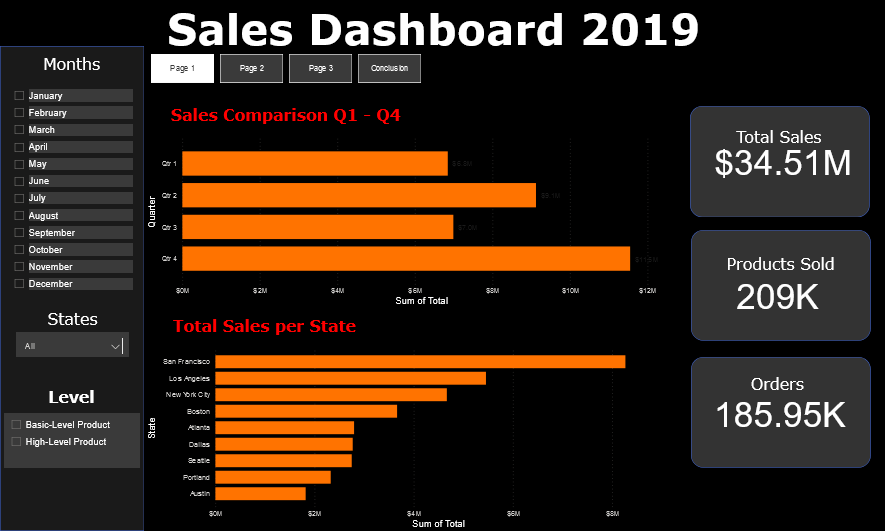

Layout of this report page (visuals, bound fields, positions):
{"tool":"powerbi","page":{"name":"Page 1","canvas":[1500,900],"ordinal":0},"visuals":[{"type":"textbox","box":[248,0,976.2,109.8],"z":0},{"type":"shape","box":[0,78,244.5,822],"z":1000},{"type":"slicer","fields":{"Values":["sales_2019.Order_Date.Variation.Date Hierarchy.Month"]},"box":[12.4,141.7,217.9,377.4],"z":2000},{"type":"shape","box":[1169.3,178.9,304.7,188.7],"z":3000},{"type":"card","fields":{"Values":["Sum(sales_2019.Total)"]},"box":[1197.6,207.3,258.7,129.3],"z":4000},{"type":"textbox","box":[63.8,519.1,116.9,47.8],"z":5000},{"type":"shape","box":[1171.1,389.8,304.7,187.8],"z":6000},{"type":"textbox","box":[35.4,86.8,171.9,46.1],"z":7000},{"type":"card","fields":{"Values":["Sum(sales_2019.Quantity_Ordered)"]},"box":[1197.2,432.3,242.7,131.1],"z":8000},{"type":"textbox","box":[1198.8,210.4,243.8,47.2],"z":9000},{"type":"clusteredBarChart","fields":{"Y":["Sum(sales_2019.Total)"],"Category":["sales_2019.Order_Date.Variation.Date Hierarchy.Quarter"]},"box":[244.5,221.5,896.5,301.2],"z":10000},{"type":"textbox","box":[1201.2,425.2,242.7,47.8],"z":11000},{"type":"textbox","box":[276.4,173.6,416.3,46.1],"z":12000},{"type":"clusteredBarChart","fields":{"Category":["sales_2019.State"],"Y":["Sum(sales_2019.Total)"]},"box":[244.5,577.6,894.7,322.4],"z":13000},{"type":"textbox","box":[276.4,529.7,343.7,47.8],"z":14000},{"type":"pageNavigator","box":[255.1,92.1,460.6,49.6],"z":15000},{"type":"shape","box":[1171.1,605.9,304.7,187.8],"z":16000},{"type":"card","fields":{"Values":["CountNonNull(sales_2019.Order_ID)"]},"box":[1185.2,634.3,274.6,129.3],"z":17000},{"type":"textbox","box":[1226,628.9,184.3,46.1],"z":18000},{"type":"slicer","fields":{"Values":["sales_2019.State"]},"box":[26.6,563.4,191.3,42.5],"z":19000},{"type":"slicer","fields":{"Values":["sales_2019.Product_Level"]},"box":[7.1,699.8,230.3,93.9],"z":20000},{"type":"textbox","box":[46.1,650.2,150.6,47.8],"z":21000}]}

Visuals, with their boxes in screenshot pixels (x1, y1, x2, y2), scaled from the page's 1500x900 canvas onto the 885x531 screenshot:
textbox: [x1=146, y1=0, x2=722, y2=65]
shape: [x1=0, y1=46, x2=144, y2=530]
slicer - sales_2019.Order_Date.Variation.Date Hierarchy.Month: [x1=7, y1=84, x2=136, y2=306]
shape: [x1=690, y1=106, x2=870, y2=217]
card - Sum(sales_2019.Total): [x1=707, y1=122, x2=859, y2=199]
textbox: [x1=38, y1=306, x2=107, y2=334]
shape: [x1=691, y1=230, x2=871, y2=341]
textbox: [x1=21, y1=51, x2=122, y2=78]
card - Sum(sales_2019.Quantity_Ordered): [x1=706, y1=255, x2=850, y2=332]
textbox: [x1=707, y1=124, x2=851, y2=152]
clusteredBarChart - Sum(sales_2019.Total) x sales_2019.Order_Date.Variation.Date Hierarchy.Quarter: [x1=144, y1=131, x2=673, y2=308]
textbox: [x1=709, y1=251, x2=852, y2=279]
textbox: [x1=163, y1=102, x2=409, y2=130]
clusteredBarChart - sales_2019.State x Sum(sales_2019.Total): [x1=144, y1=341, x2=672, y2=530]
textbox: [x1=163, y1=313, x2=366, y2=341]
pageNavigator: [x1=151, y1=54, x2=422, y2=84]
shape: [x1=691, y1=357, x2=871, y2=468]
card - CountNonNull(sales_2019.Order_ID): [x1=699, y1=374, x2=861, y2=451]
textbox: [x1=723, y1=371, x2=832, y2=398]
slicer - sales_2019.State: [x1=16, y1=332, x2=129, y2=357]
slicer - sales_2019.Product_Level: [x1=4, y1=413, x2=140, y2=468]
textbox: [x1=27, y1=384, x2=116, y2=412]
